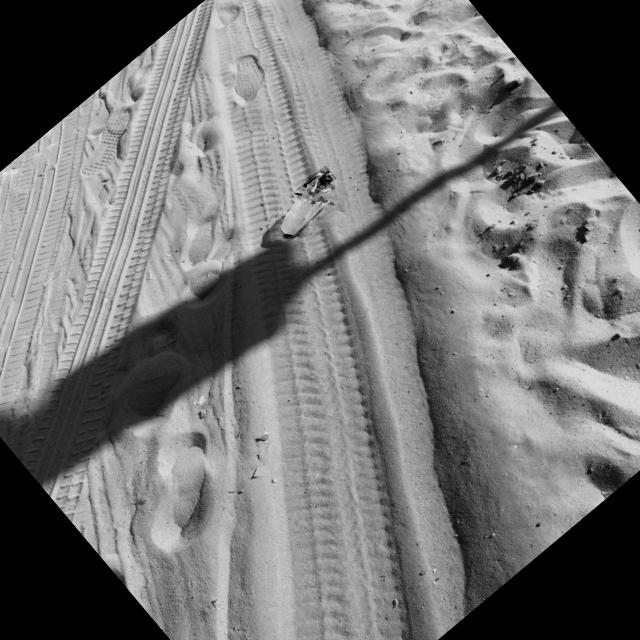Cigarette: (197, 396, 204, 406)
Cup: (281, 186, 330, 235)
Unlabeled litter: (294, 170, 333, 194)
